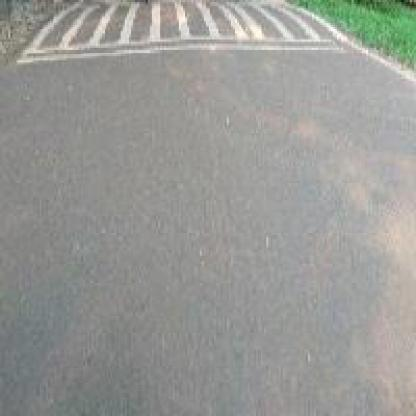Speed Bump: (12, 0, 358, 69)
